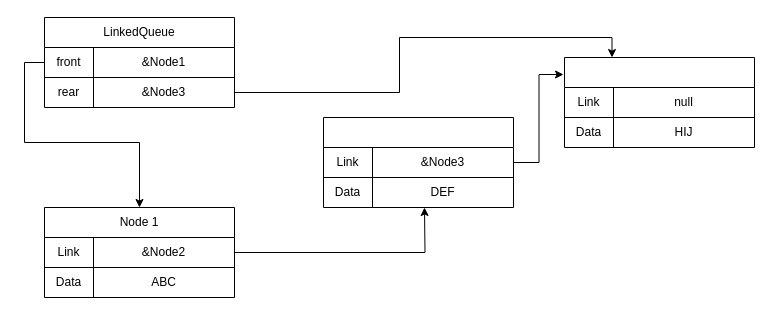
Image size: 772x315. Some labels were removed from this diagram. Each missing label, with the box of its shape:
Node 2: (322, 116, 514, 208)
Node 3: (564, 56, 754, 148)
